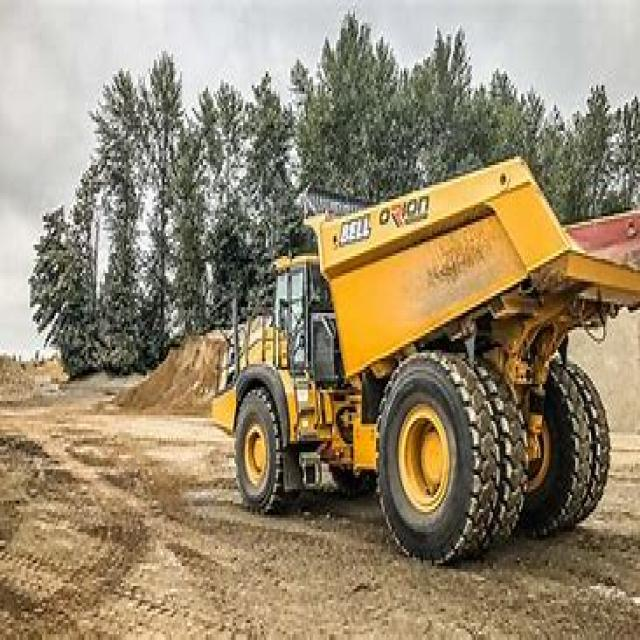dump_truck: (210, 162, 638, 566)
